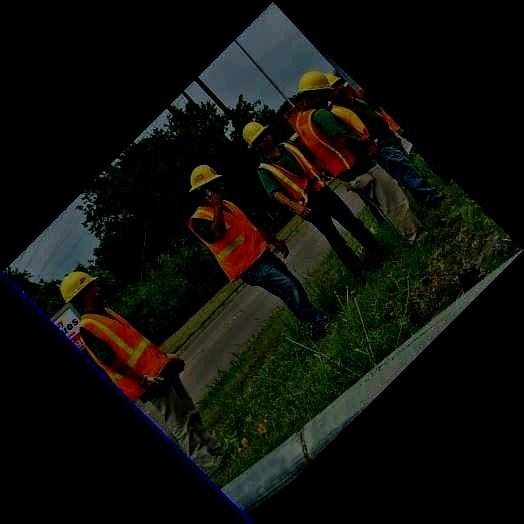helmet: (296, 69, 335, 110), (60, 271, 99, 310), (189, 164, 223, 203), (242, 121, 272, 153), (323, 72, 344, 101)
